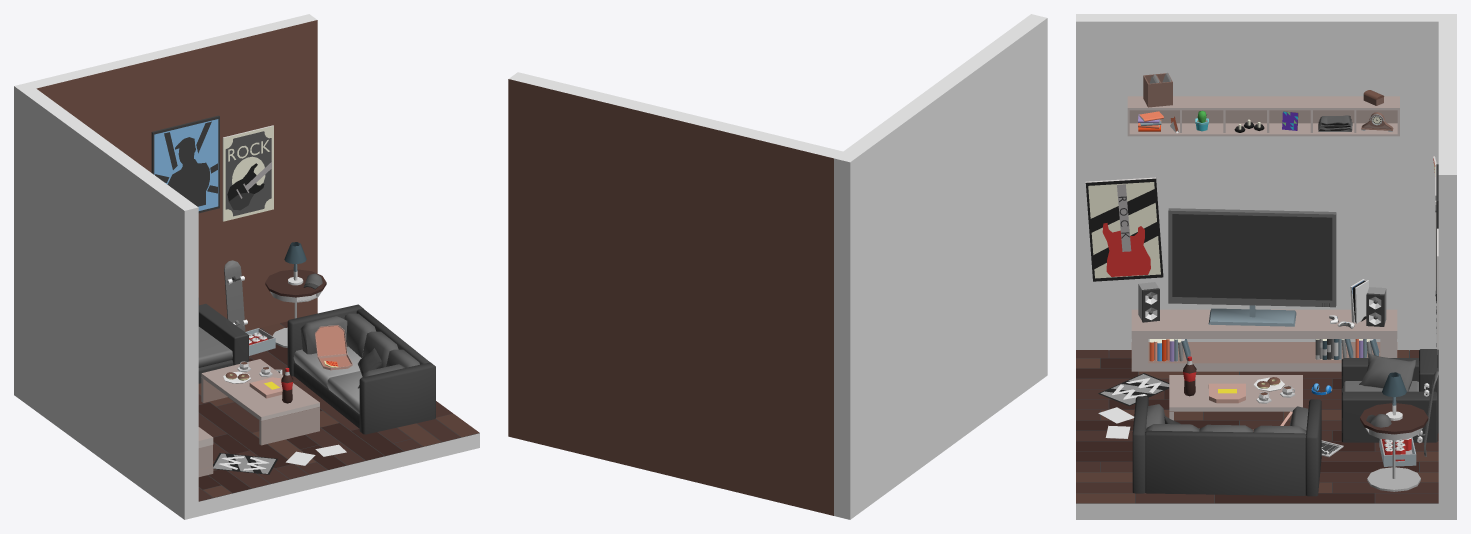
Rendered from room_23.glb.
The picture shows the model from 3 angles, left to right: view 1: azimuth 30°, elevation 25°; view 2: azimuth 150°, elevation 25°; view 3: azimuth 270°, elevation 25°; orthographic projection. The views are drawn at different scales.
Parts seen in each view (by area): view 1: Walls_006.012, Walls_009.005, floor_016.001, sofa_005.001, Walls_011.012, picture_043.001, coffee_table_011.001, picture_037.001, armchair_002.001, kitchen_table_013.001, shop_101.001, training_item_003.002 (+4 smaller); view 2: Walls_009.005, Walls_006.012; view 3: Walls_006.012, floor_016.001, electronics_033.001, sofa_005.001, tv_wall_021.001, Walls_009.005, shelf_062.001, Walls_011.012, picture_038.001, armchair_002.001, coffee_table_011.001, kitchen_table_013.001 (+13 smaller).
Boxes of the visible parts, x1,y1,x2,y2 form: Walls_006.012: [14, 82, 198, 519]; Walls_009.005: [28, 14, 317, 331]; floor_016.001: [198, 321, 479, 501]; sofa_005.001: [287, 304, 435, 434]; Walls_011.012: [198, 323, 479, 516]; picture_043.001: [151, 115, 219, 213]; coffee_table_011.001: [201, 359, 319, 445]; picture_037.001: [222, 125, 273, 221]; armchair_002.001: [198, 298, 248, 383]; kitchen_table_013.001: [265, 269, 326, 347]; shop_101.001: [314, 325, 352, 370]; training_item_003.002: [224, 260, 247, 331]; Walls_009.005: [508, 72, 842, 515]; Walls_006.012: [834, 14, 1047, 519]; Walls_006.012: [1076, 14, 1456, 350]; floor_016.001: [1076, 350, 1438, 503]; electronics_033.001: [1168, 208, 1336, 326]; sofa_005.001: [1132, 396, 1321, 496]; tv_wall_021.001: [1131, 309, 1397, 371]; Walls_009.005: [1438, 21, 1456, 519]; shelf_062.001: [1127, 96, 1399, 136]; Walls_011.012: [1076, 350, 1438, 519]; picture_038.001: [1085, 177, 1163, 281]; armchair_002.001: [1341, 349, 1438, 442]; coffee_table_011.001: [1169, 375, 1302, 420]; kitchen_table_013.001: [1360, 403, 1428, 491].
Size of the model in its own units: 4.2 by 4.2 by 4.2.
Materials: 1 (1 with a texture image).
